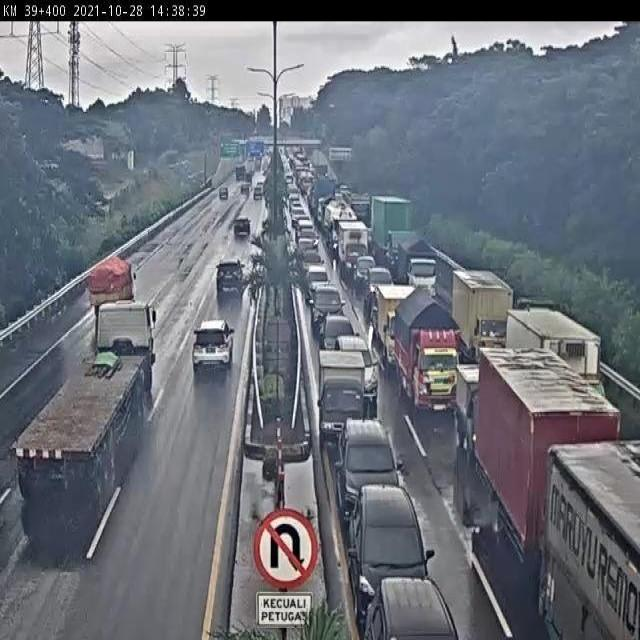Car: (345, 484, 434, 632), (336, 421, 402, 522), (334, 332, 380, 400), (190, 317, 234, 376), (308, 283, 345, 337), (321, 312, 357, 354), (216, 259, 246, 298), (364, 266, 394, 304), (304, 265, 330, 307), (352, 254, 378, 286), (295, 226, 320, 250), (300, 243, 321, 266), (294, 218, 316, 235), (233, 217, 251, 237), (290, 208, 307, 225), (286, 185, 300, 200), (253, 186, 264, 200), (241, 182, 251, 195), (219, 187, 228, 200), (289, 201, 303, 209), (256, 180, 264, 190)
Truck: (474, 346, 627, 567), (6, 299, 158, 502), (538, 442, 638, 638), (505, 304, 606, 402), (389, 290, 463, 415), (452, 269, 514, 360), (316, 348, 368, 442), (367, 283, 416, 374), (370, 195, 416, 274), (450, 359, 483, 456), (89, 253, 138, 316), (392, 236, 442, 290), (334, 218, 370, 282), (322, 199, 357, 259), (310, 178, 338, 220), (346, 191, 372, 228), (235, 166, 246, 182), (247, 160, 256, 176)
